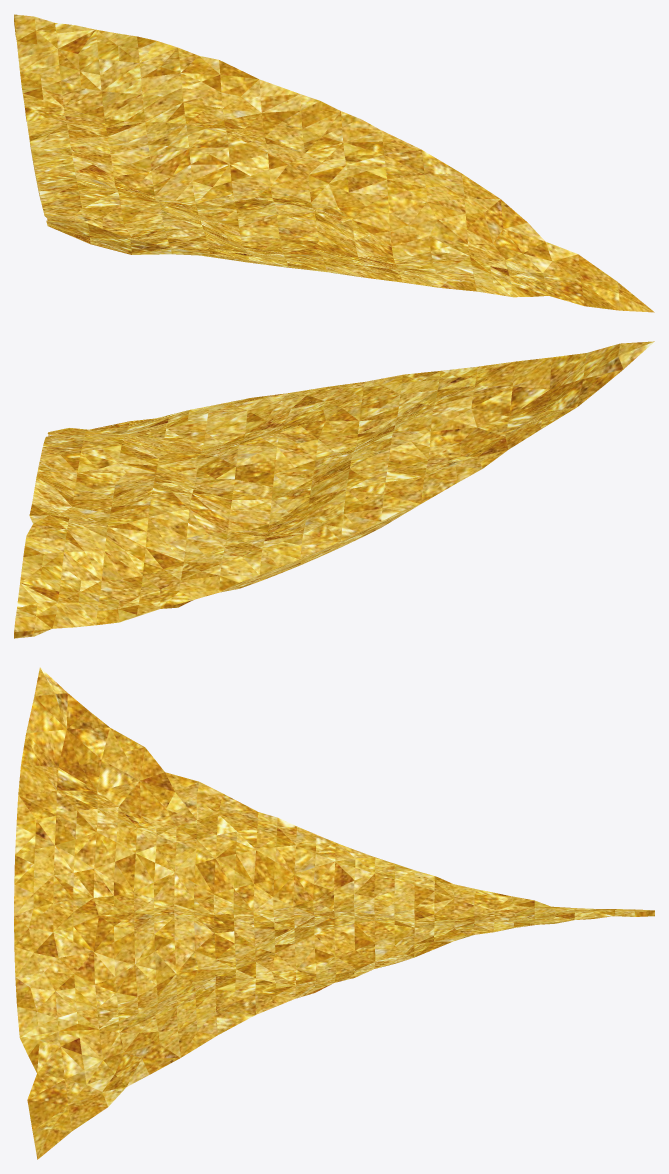
Rendered from nacho_textured.gltf.
3 views of the same model, one above another, from view 1: azimuth 30°, elevation 25°; view 2: azimuth 150°, elevation 25°; view 3: azimuth 270°, elevation 25° (orthographic). The views are drawn at different scales.
Visible parts, largest first — view 1: Plane; view 2: Plane; view 3: Plane.
Boxes of the visible parts, x1,y1,x2,y2 form: Plane: (14,14,654,312); Plane: (14,341,654,638); Plane: (14,667,654,1159).
Size of the model in its own units: 1.92 by 0.7335 by 1.92.
1 material, 1 textured.
